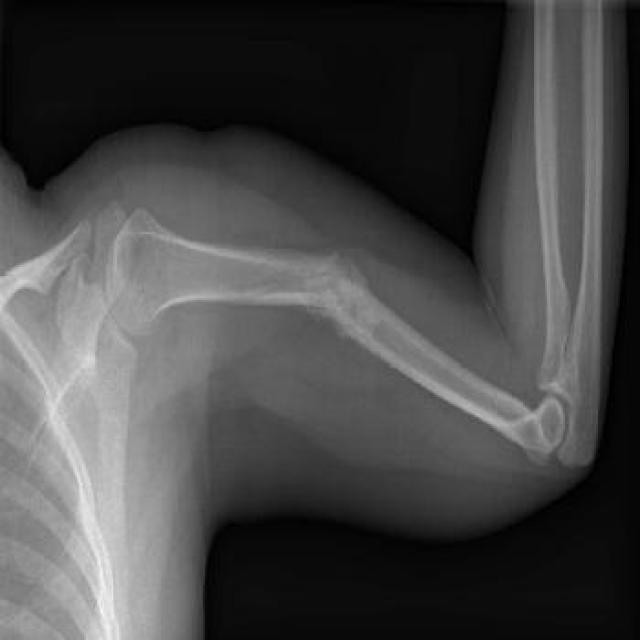Fracture: (290, 243, 381, 340)
